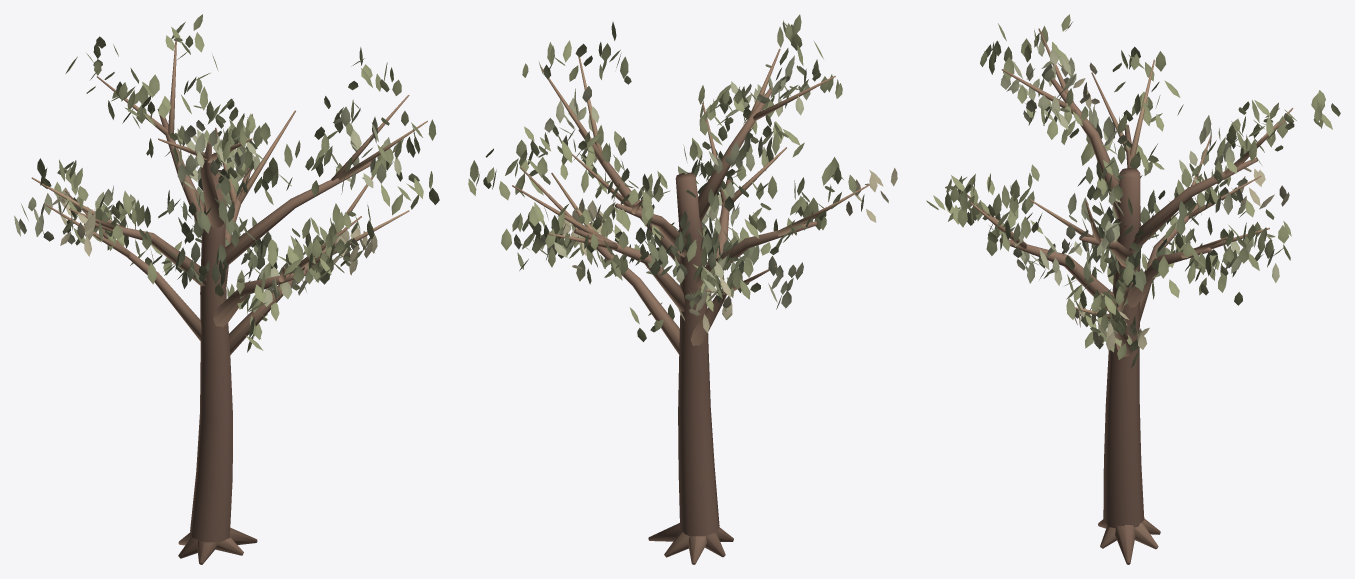
The model's file is tree_3d_05.glb.
3 views of the same model, side by side, from view 1: azimuth 30°, elevation 25°; view 2: azimuth 150°, elevation 25°; view 3: azimuth 270°, elevation 25° (orthographic).
Visible parts, largest first — view 1: tree_3d_05_foliage, tree_3d_05_wood; view 2: tree_3d_05_foliage, tree_3d_05_wood; view 3: tree_3d_05_foliage, tree_3d_05_wood.
Part boxes in pixels (left/top/right/bottom): tree_3d_05_foliage: left=14, top=14, right=439, bottom=352; tree_3d_05_wood: left=31, top=41, right=427, bottom=564; tree_3d_05_foliage: left=468, top=14, right=897, bottom=341; tree_3d_05_wood: left=512, top=48, right=869, bottom=564; tree_3d_05_foliage: left=926, top=14, right=1340, bottom=368; tree_3d_05_wood: left=967, top=28, right=1293, bottom=564.
Bounding box in the file's own units: 12.4 × 16.06 × 12.05.
